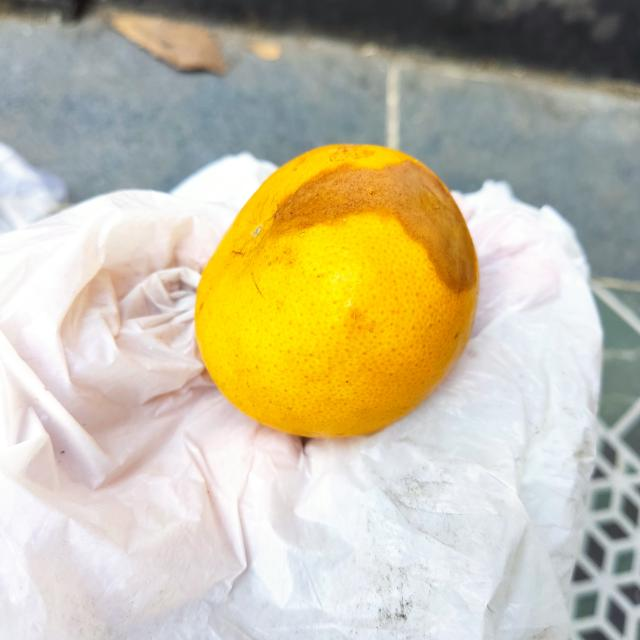orange: (192, 137, 478, 444)
